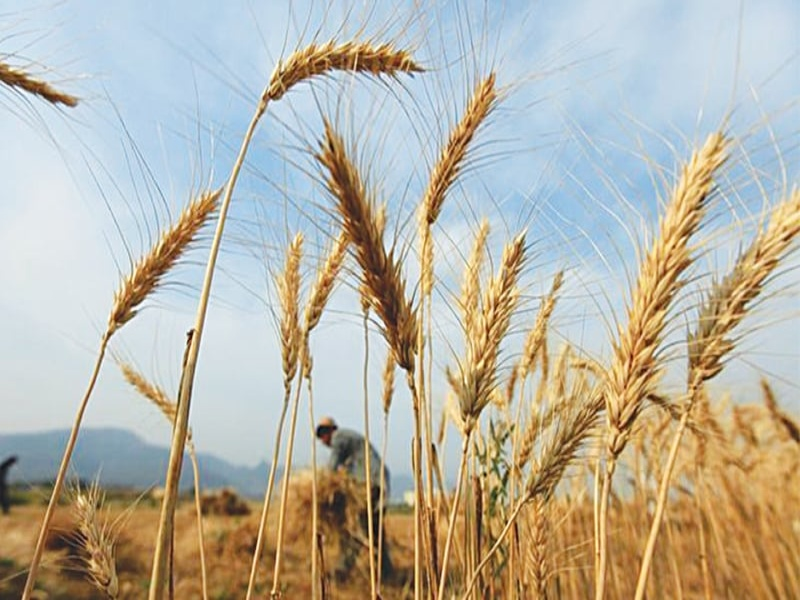wheat: (578, 96, 800, 506), (448, 216, 571, 447), (224, 23, 440, 149), (89, 167, 231, 355), (1, 48, 91, 128)
